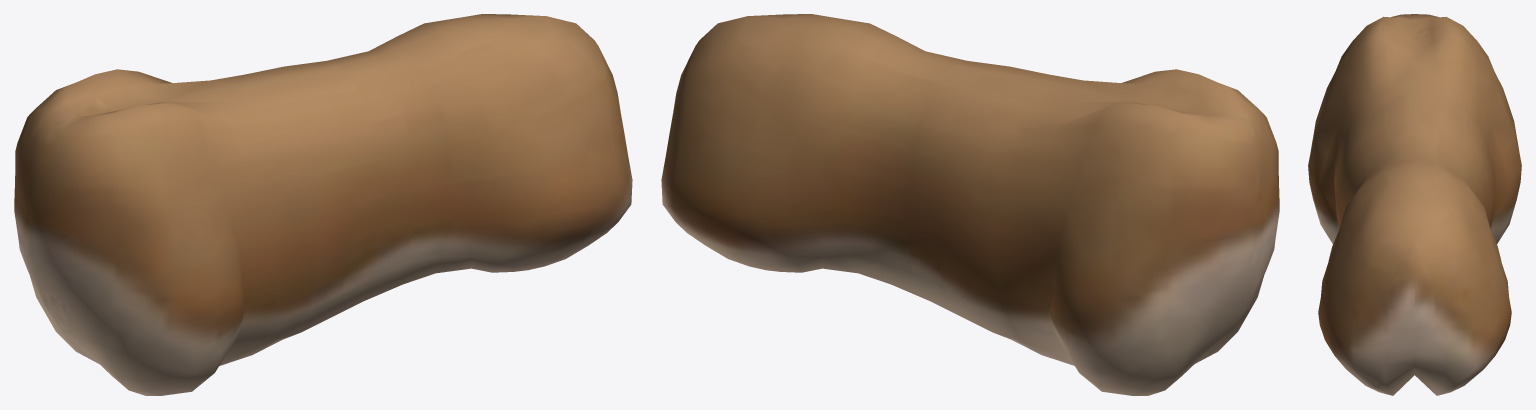
Rendered from Cougar_Body_0.FBX.
3 views of the same model, side by side, from view 1: azimuth 30°, elevation 25°; view 2: azimuth 150°, elevation 25°; view 3: azimuth 270°, elevation 25° (orthographic). The views are drawn at different scales.
Parts seen in each view (by area): view 1: Cougar_Body_0; view 2: Cougar_Body_0; view 3: Cougar_Body_0.
Part boxes in pixels (x1,y1,x2,y2): Cougar_Body_0: (14, 14, 632, 395); Cougar_Body_0: (661, 14, 1279, 395); Cougar_Body_0: (1308, 14, 1521, 395).
Size of the model in its own units: 4.03 by 2.02 by 1.64.
